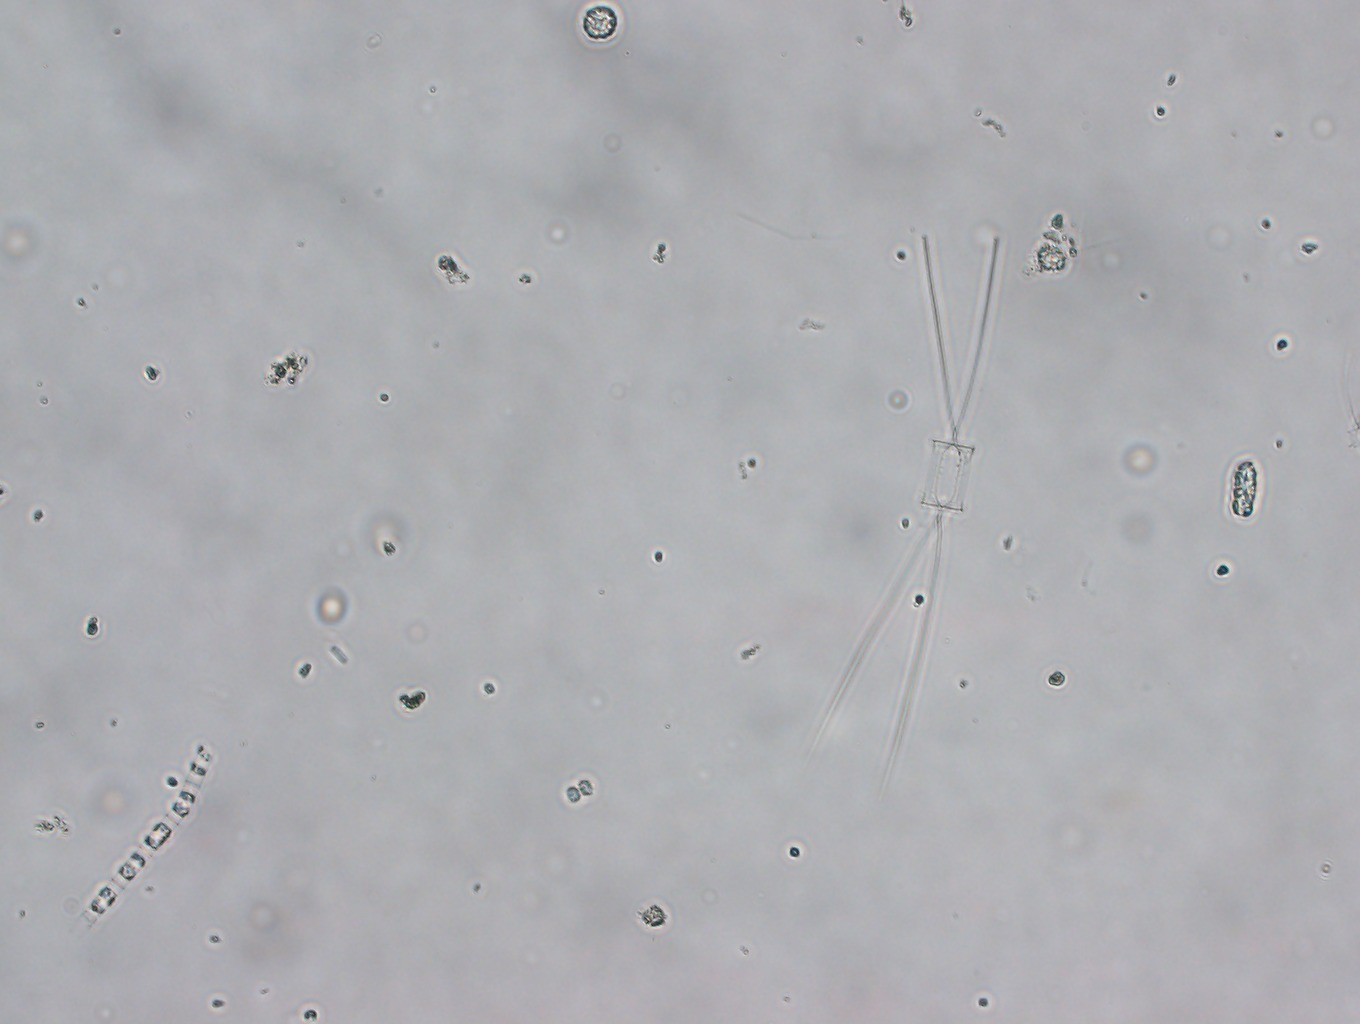chaetoceros: (784, 227, 1010, 794)
skeletonema: (67, 724, 216, 935)
